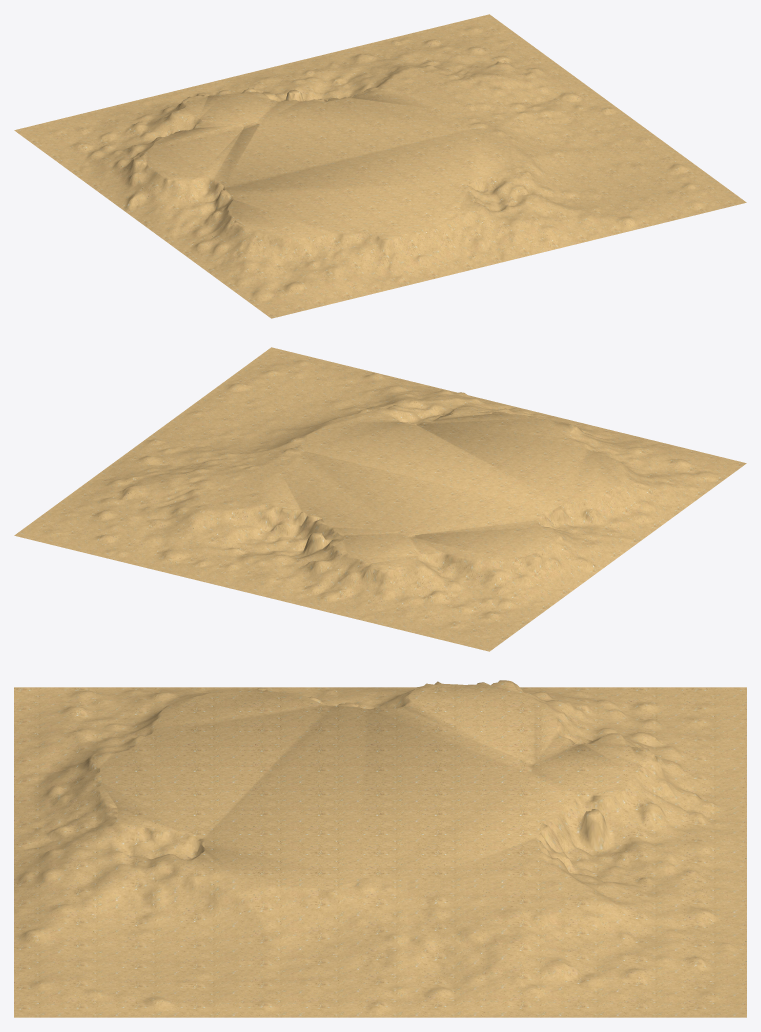
File: island.dae
3 renders of one model, top to bottom at view 1: azimuth 30°, elevation 25°; view 2: azimuth 150°, elevation 25°; view 3: azimuth 270°, elevation 25°, orthographic. The views are drawn at different scales.
Parts seen in each view (by area): view 1: terrain; view 2: terrain; view 3: terrain.
Part boxes in pixels (x1=…): terrain: x1=14, y1=14, x2=746, y2=318; terrain: x1=14, y1=347, x2=746, y2=651; terrain: x1=14, y1=680, x2=746, y2=1017.
Size of the model in its own units: 2275 by 2133 by 103.
Materials: 1 (1 with a texture image).
